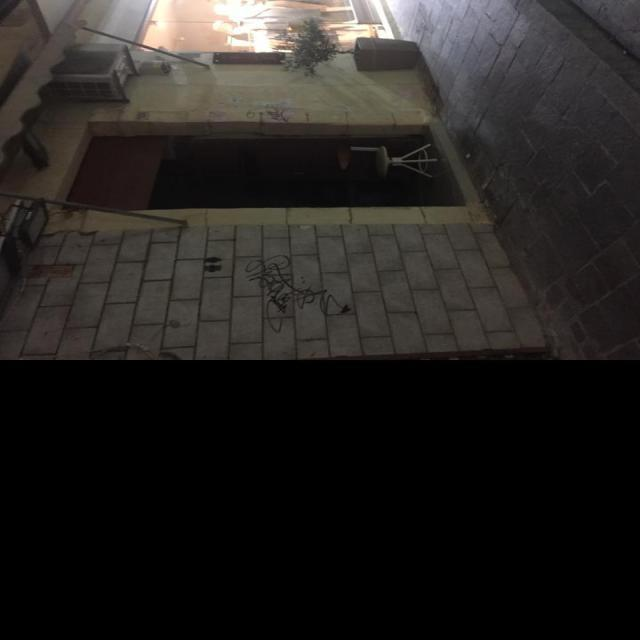nonspitting: (245, 254, 352, 334)
